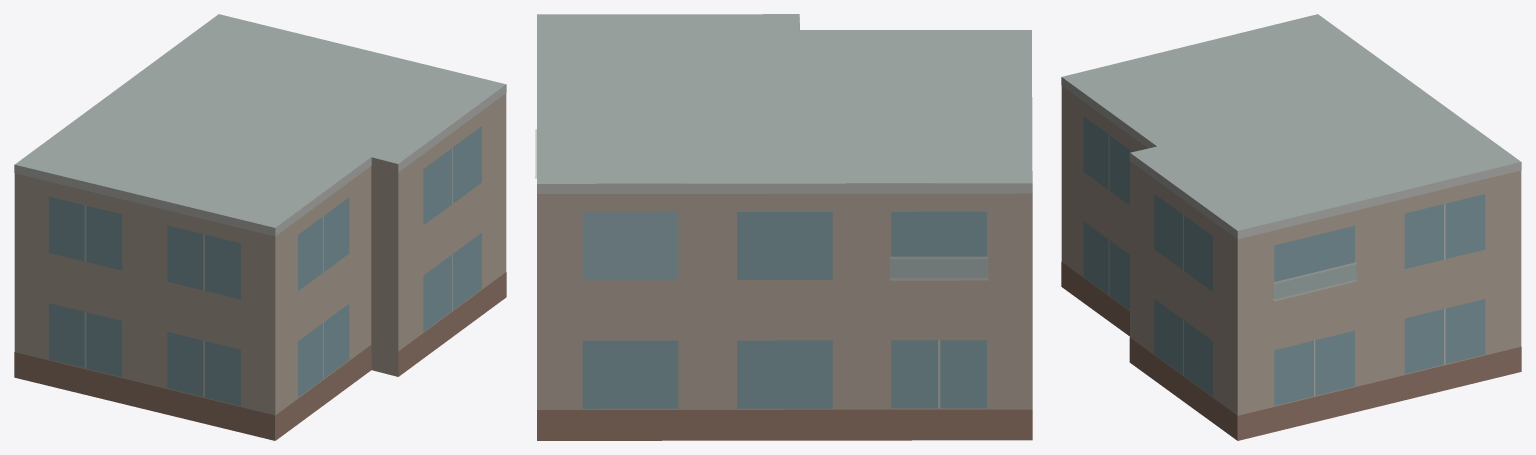
The model's file is survey-upis-32694493.glb.
3 views of the same model, side by side, from view 1: azimuth 30°, elevation 25°; view 2: azimuth 150°, elevation 25°; view 3: azimuth 270°, elevation 25° (orthographic). The views are drawn at different scales.
Parts seen in each view (by area): view 1: survey-upis-32694493.tmp; view 2: survey-upis-32694493.tmp; view 3: survey-upis-32694493.tmp.
Part boxes in pixels (left/top/right/bottom): survey-upis-32694493.tmp: left=14, top=14, right=506, bottom=440; survey-upis-32694493.tmp: left=535, top=14, right=1032, bottom=440; survey-upis-32694493.tmp: left=1061, top=14, right=1521, bottom=440.
Size of the model in its own units: 13.54 by 6.1 by 12.13.
